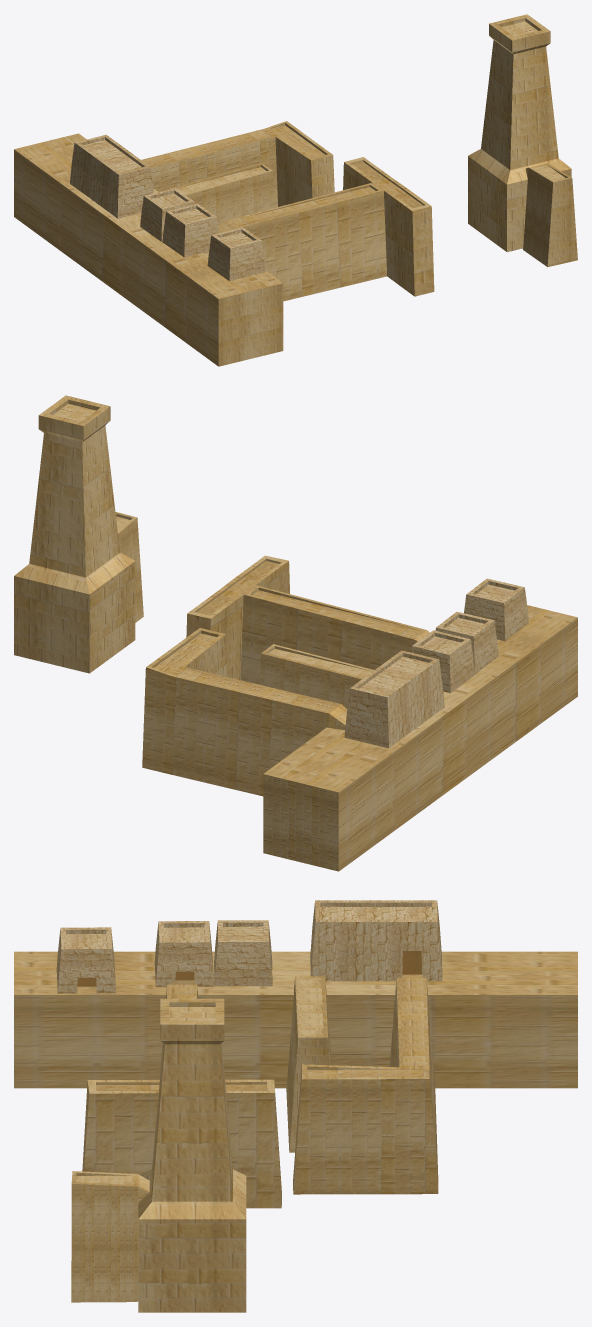
Rendered from Egyptian Port 3.obj.
3 views of the same model, one above another, from view 1: azimuth 30°, elevation 25°; view 2: azimuth 150°, elevation 25°; view 3: azimuth 270°, elevation 25° (orthographic). The views are drawn at different scales.
Visible parts, largest first — view 1: Cube, Cube.001_Cube.049, Cube.002_Cube.001, Cube.000_Cube.047, Cube.045_Cube.053, Cube.005_Cube.003, Cube.024_Cube.016, Cube.004_Cube.002, Cube.025_Cube.051, Cube.003_Cube.052; view 2: Cube, Cube.002_Cube.001, Cube.000_Cube.047, Cube.001_Cube.049, Cube.045_Cube.053, Cube.024_Cube.016, Cube.004_Cube.002, Cube.003_Cube.052, Cube.025_Cube.051, Cube.005_Cube.003; view 3: Cube, Cube.002_Cube.001, Cube.000_Cube.047, Cube.001_Cube.049, Cube.045_Cube.053, Cube.005_Cube.003, Cube.024_Cube.016, Cube.003_Cube.052, Cube.004_Cube.002, Cube.025_Cube.051.
Part boxes in pixels (bbox=[...]): Cube: bbox=[14, 133, 283, 366]; Cube.001_Cube.049: bbox=[218, 157, 434, 301]; Cube.002_Cube.001: bbox=[468, 14, 571, 252]; Cube.000_Cube.047: bbox=[141, 121, 334, 207]; Cube.045_Cube.053: bbox=[70, 134, 153, 218]; Cube.005_Cube.003: bbox=[522, 163, 577, 267]; Cube.024_Cube.016: bbox=[166, 163, 274, 225]; Cube.004_Cube.002: bbox=[207, 227, 265, 281]; Cube.025_Cube.051: bbox=[162, 203, 218, 257]; Cube.003_Cube.052: bbox=[140, 188, 194, 241]; Cube: bbox=[263, 605, 577, 871]; Cube.002_Cube.001: bbox=[14, 395, 135, 673]; Cube.000_Cube.047: bbox=[142, 628, 347, 796]; Cube.001_Cube.049: bbox=[186, 555, 429, 684]; Cube.045_Cube.053: bbox=[344, 650, 444, 748]; Cube.024_Cube.016: bbox=[259, 644, 374, 708]; Cube.004_Cube.002: bbox=[464, 578, 528, 641]; Cube.003_Cube.052: bbox=[411, 630, 474, 693]; Cube.025_Cube.051: bbox=[435, 611, 498, 674]; Cube.005_Cube.003: bbox=[115, 512, 143, 622]; Cube: bbox=[14, 951, 577, 1088]; Cube.002_Cube.001: bbox=[138, 998, 246, 1312]; Cube.000_Cube.047: bbox=[293, 977, 438, 1194]; Cube.001_Cube.049: bbox=[82, 980, 281, 1208]; Cube.045_Cube.053: bbox=[310, 900, 442, 981]; Cube.005_Cube.003: bbox=[71, 1171, 149, 1302]; Cube.024_Cube.016: bbox=[286, 976, 331, 1152]; Cube.003_Cube.052: bbox=[214, 920, 272, 986]; Cube.004_Cube.002: bbox=[56, 927, 115, 993]; Cube.025_Cube.051: bbox=[154, 921, 213, 987].
Bounding box in the file's own units: 0.8057 × 0.395 × 0.7171.
3 materials, 3 textured.
